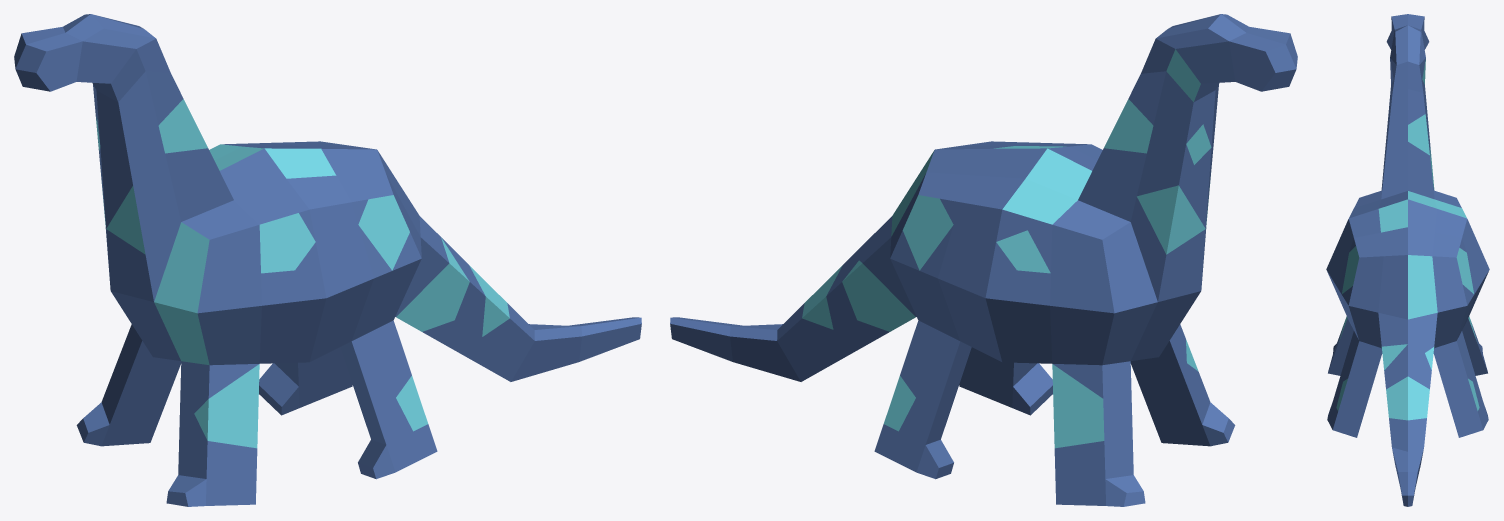
The model's file is Dino.fbx.
3 views of the same model, side by side, from view 1: azimuth 30°, elevation 25°; view 2: azimuth 150°, elevation 25°; view 3: azimuth 270°, elevation 25° (orthographic). The views are drawn at different scales.
Visible parts, largest first — view 1: Dino; view 2: Dino; view 3: Dino.
Part boxes in pixels (x1,y1,x2,y2): Dino: [14, 14, 641, 506]; Dino: [670, 14, 1297, 506]; Dino: [1326, 14, 1489, 506].
Bounding box in the file's own units: 333 × 247 × 113.
